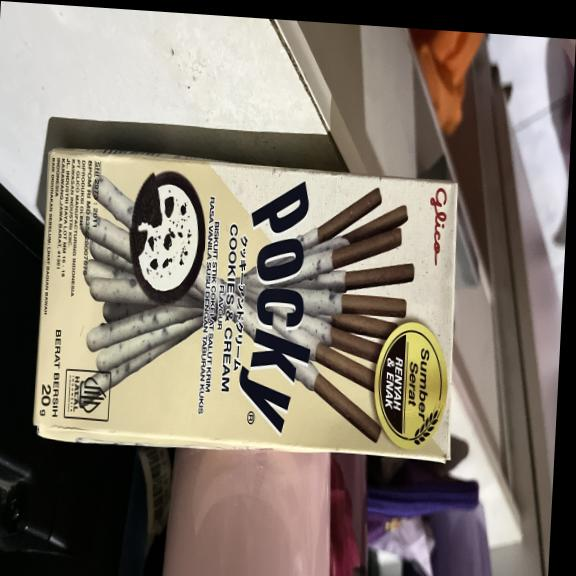Kertas: (33, 148, 458, 462)
